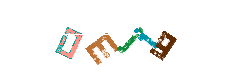0: (44, 0, 124, 80)
G: (124, 0, 204, 80)
I: (74, 0, 154, 80)
J: (72, 0, 152, 80)
M: (64, 0, 144, 80)
